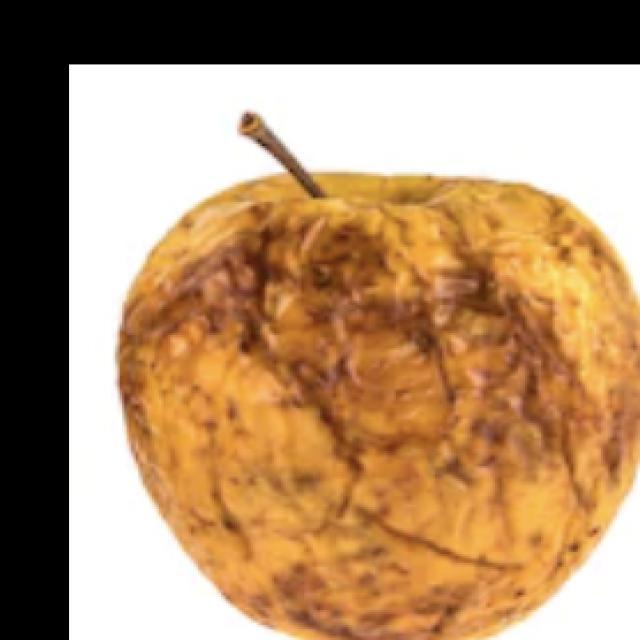Rotten: (161, 168, 639, 640)
